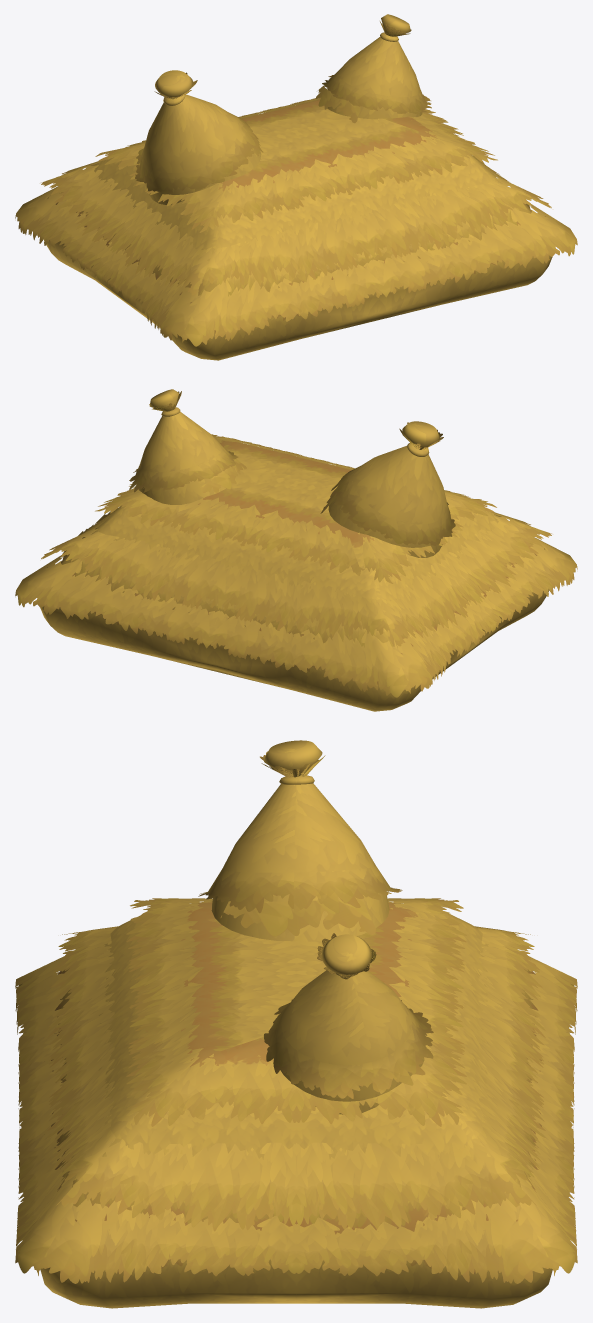
The model's file is Cattac_Straw_Houses (2).fbx.
3 renders of one model, top to bottom at view 1: azimuth 30°, elevation 25°; view 2: azimuth 150°, elevation 25°; view 3: azimuth 270°, elevation 25°, orthographic. The views are drawn at different scales.
Visible parts, largest first — view 1: BaseHouseRoofCatEar__1_.004; view 2: BaseHouseRoofCatEar__1_.004; view 3: BaseHouseRoofCatEar__1_.004.
Boxes of the visible parts, x1,y1,x2,y2 form: BaseHouseRoofCatEar__1_.004: (15,14,577,360); BaseHouseRoofCatEar__1_.004: (15,389,577,711); BaseHouseRoofCatEar__1_.004: (15,740,577,1308).
Size of the model in its own units: 40.9 by 21.41 by 31.7.
Materials: 2 (2 with a texture image).
